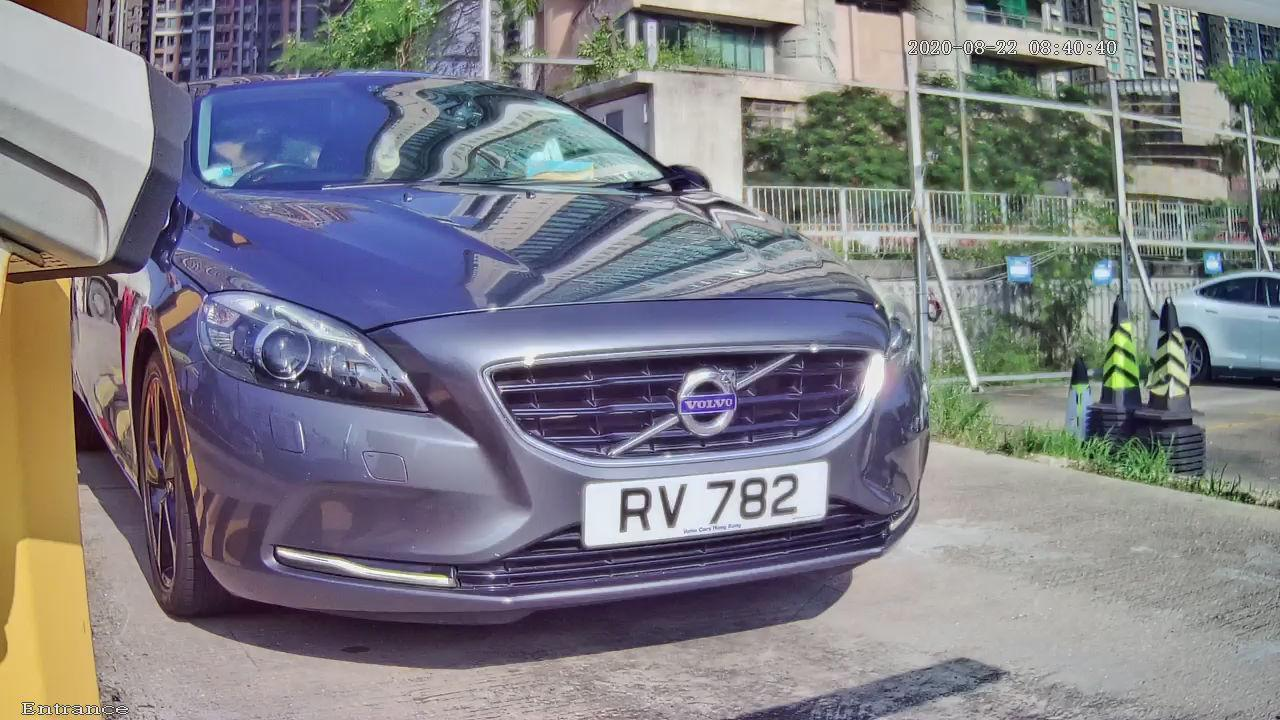Car: (23, 1, 1012, 695)
License Plate: (526, 423, 888, 571)
